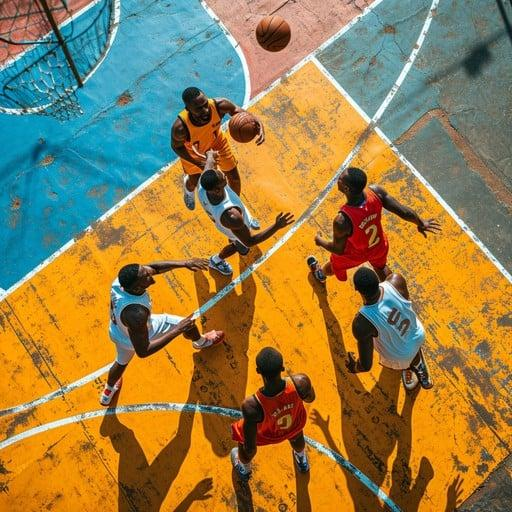basketball: (254, 13, 294, 56), (229, 109, 259, 142)
